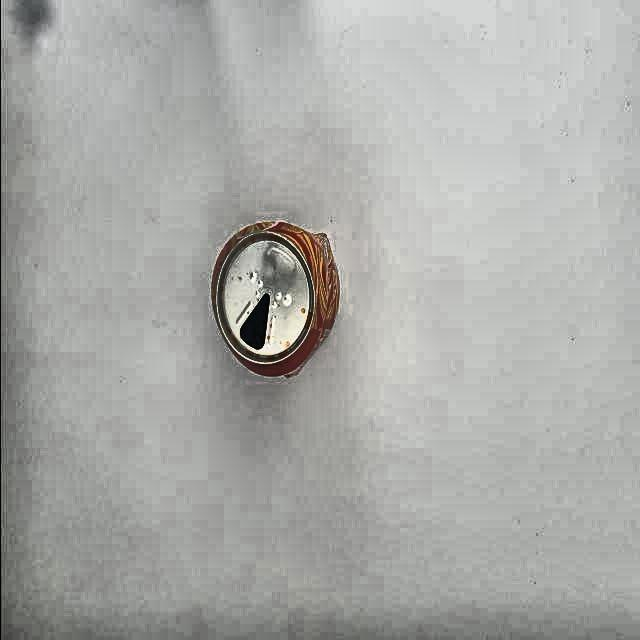metal: (210, 223, 341, 379)
